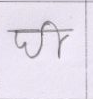i_matra: (44, 21, 66, 58)
